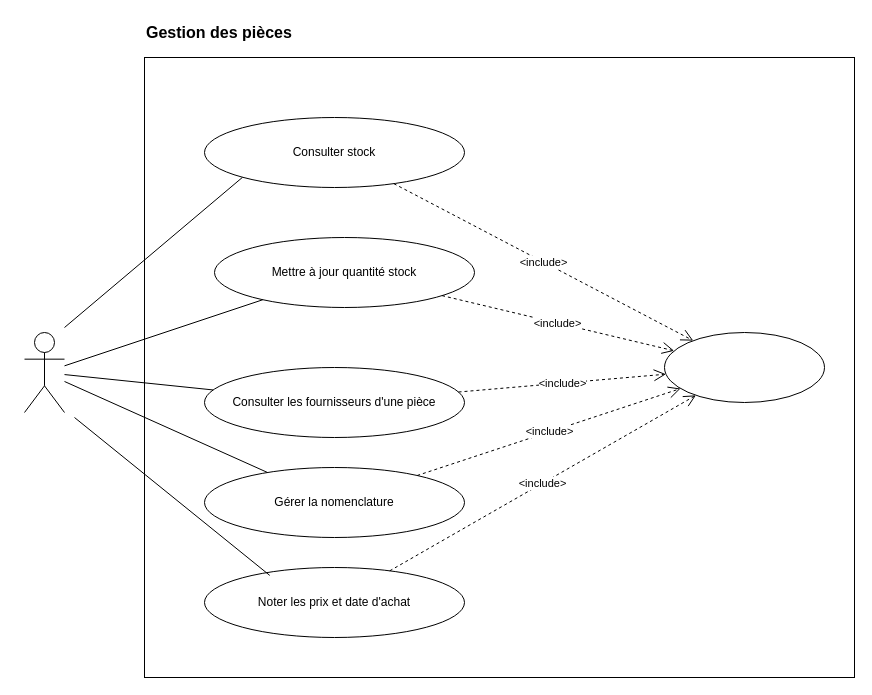
The diagram is 872 pixels wide and 695 high, and some of its shapes have lost their labels. Each missing label, with the centre of its shape:
Opérateur: the point at 44,372
S'authentifier: the point at 744,367
